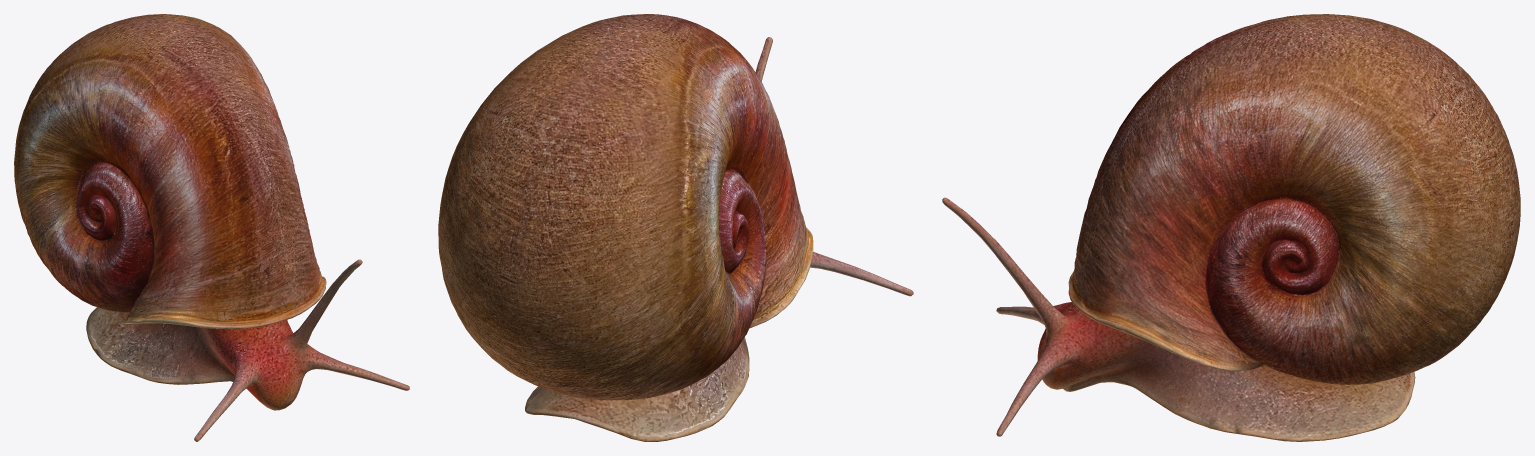
Rendered from snail-ramshorn.glb.
3 views of the same model, side by side, from view 1: azimuth 30°, elevation 25°; view 2: azimuth 150°, elevation 25°; view 3: azimuth 270°, elevation 25° (orthographic). The views are drawn at different scales.
Visible parts, largest first — view 1: Shell, Body, TentL, TentR; view 2: Shell, Body, TentR; view 3: Shell, Body, TentL.
Boxes of the visible parts, <box> form: Shell: <box>14,14,326,388</box>; Body: <box>86,277,309,410</box>; TentL: <box>280,259,409,390</box>; TentR: <box>194,317,287,441</box>; Shell: <box>438,14,813,428</box>; Body: <box>525,337,749,441</box>; TentR: <box>810,251,913,296</box>; Shell: <box>1064,14,1520,416</box>; Body: <box>1037,242,1414,441</box>; TentL: <box>942,197,1074,436</box>.
Size of the model in its own units: 0.0706 by 0.0947 by 0.133.
1 material, 1 textured.
